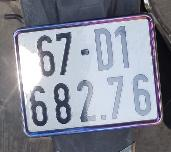1: (113, 24, 132, 72)
2: (75, 77, 99, 125)
6: (33, 33, 58, 81), (129, 71, 154, 119), (26, 83, 51, 129)
7: (104, 73, 129, 122), (53, 30, 78, 78)
8: (51, 80, 74, 126)
D: (91, 26, 116, 75)
